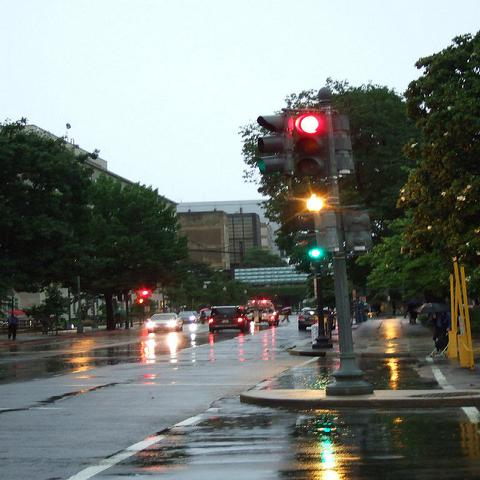car: (209, 304, 252, 334), (145, 313, 185, 334), (298, 308, 318, 331), (178, 310, 198, 324)
truck: (244, 300, 280, 325)
